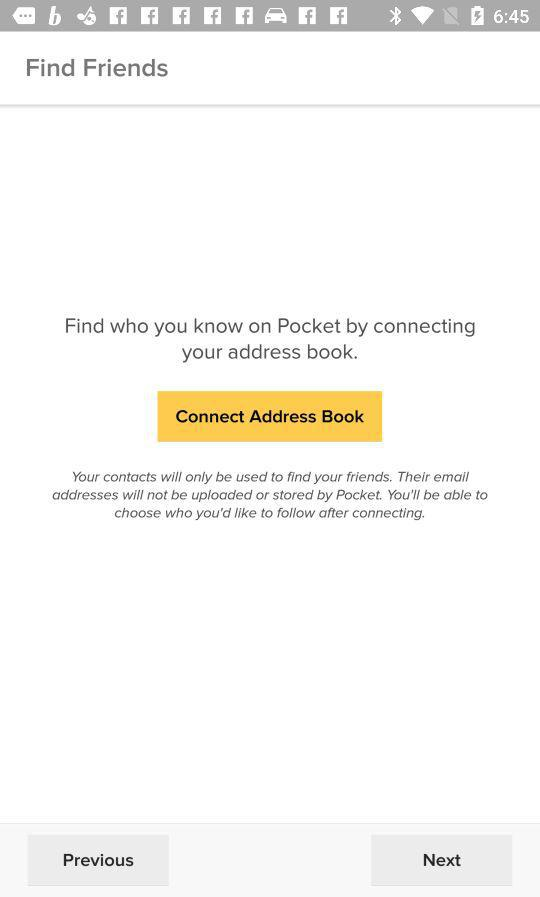Text: (53, 471, 488, 522), (66, 318, 476, 364), (27, 58, 169, 78)
TextButton: (157, 391, 383, 443), (28, 834, 170, 887), (371, 834, 513, 886)
UpperTaskBar: (1, 1, 540, 33)
